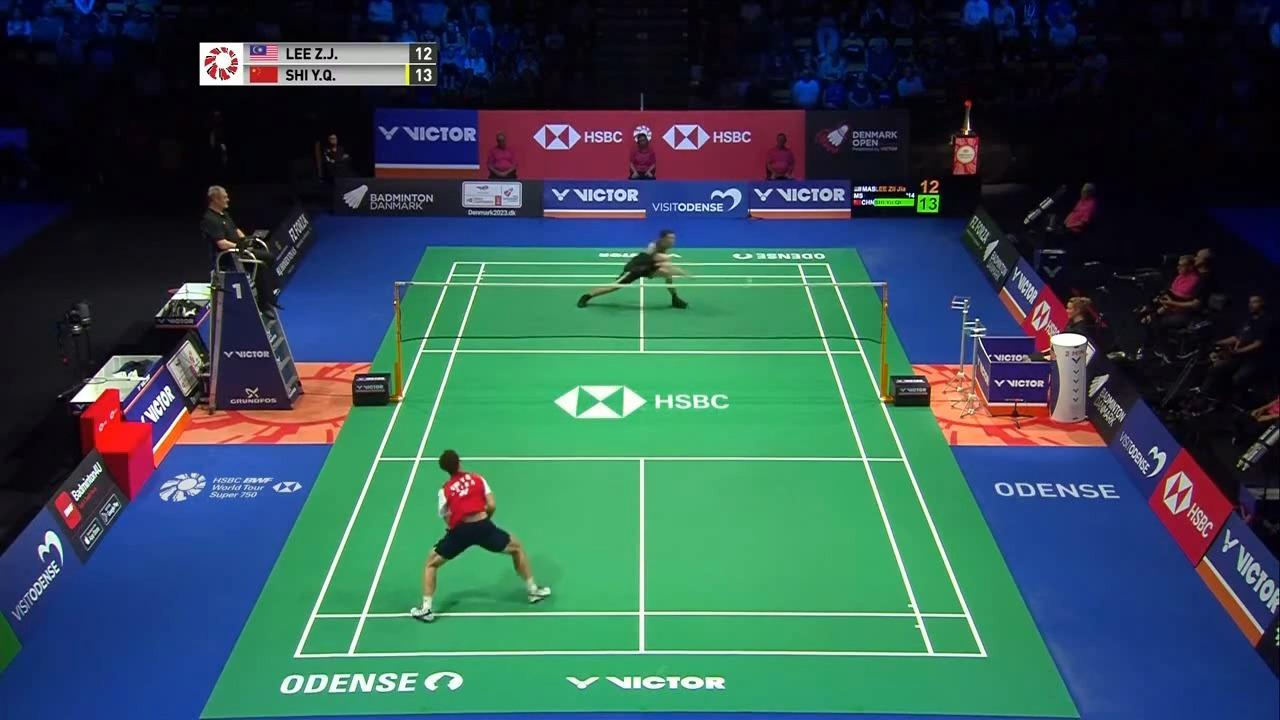shuttle: (744, 277, 753, 287)
